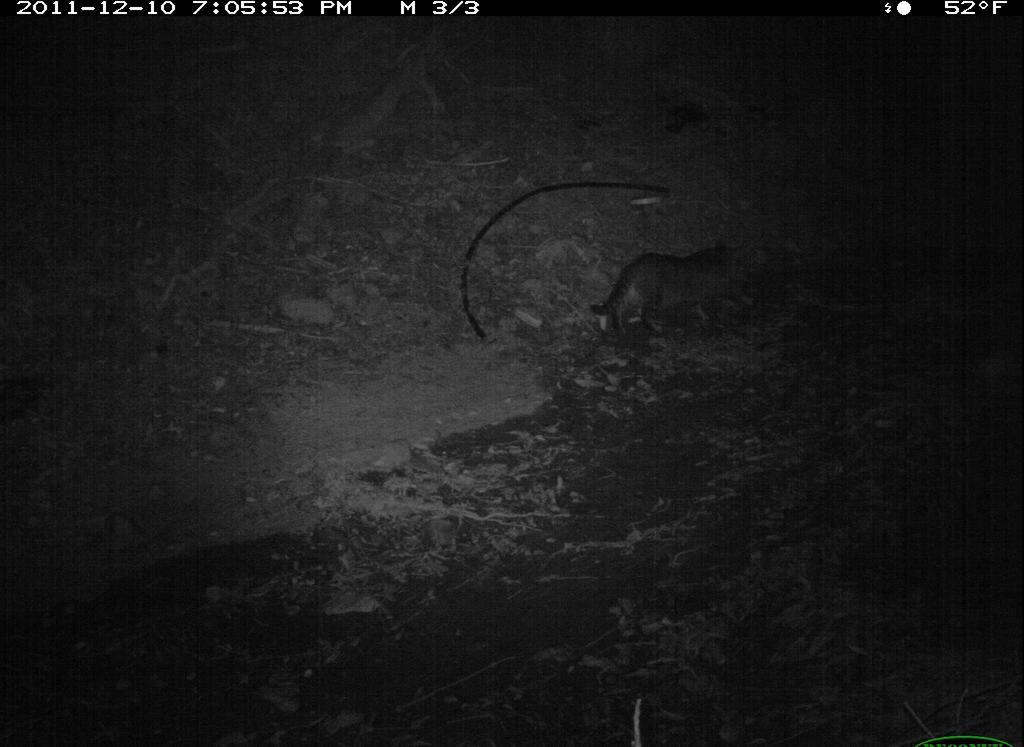cat: (587, 233, 758, 344)
